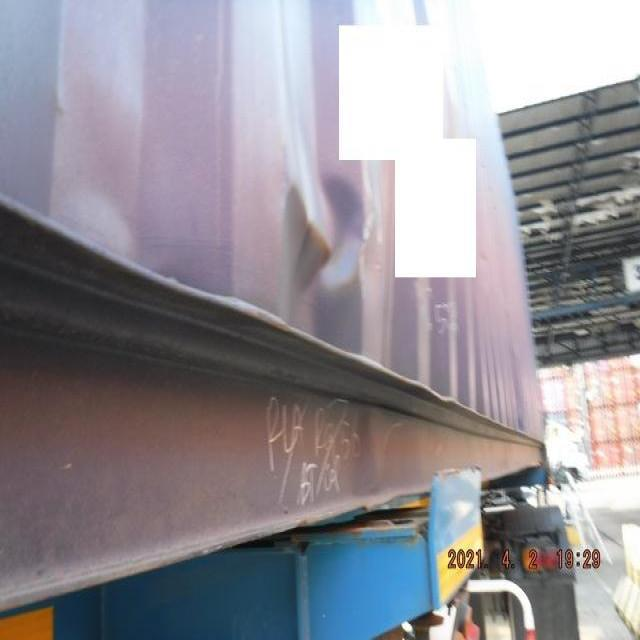Dent: (230, 156, 395, 319)
